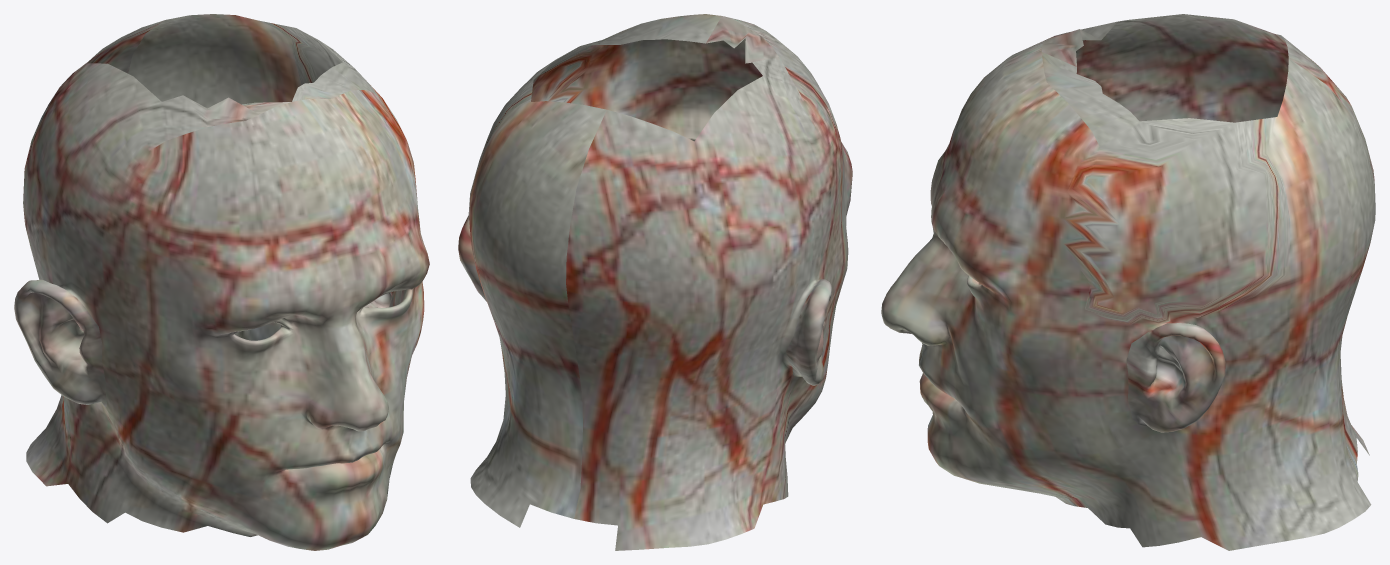
The model's file is PastPersona.fbx.
The picture shows the model from 3 angles, left to right: view 1: azimuth 30°, elevation 25°; view 2: azimuth 150°, elevation 25°; view 3: azimuth 270°, elevation 25°; orthographic projection. The views are drawn at different scales.
Visible parts, largest first — view 1: challenger_eyes_refl2; view 2: challenger_eyes_refl2; view 3: challenger_eyes_refl2.
Part boxes in pixels (left/top/right/bottom): challenger_eyes_refl2: left=14, top=14, right=429, bottom=550; challenger_eyes_refl2: left=458, top=14, right=852, bottom=550; challenger_eyes_refl2: left=881, top=14, right=1375, bottom=550.
Bounding box in the file's own units: 6.47 × 7.15 × 7.3.
Materials: 1 (1 with a texture image).
